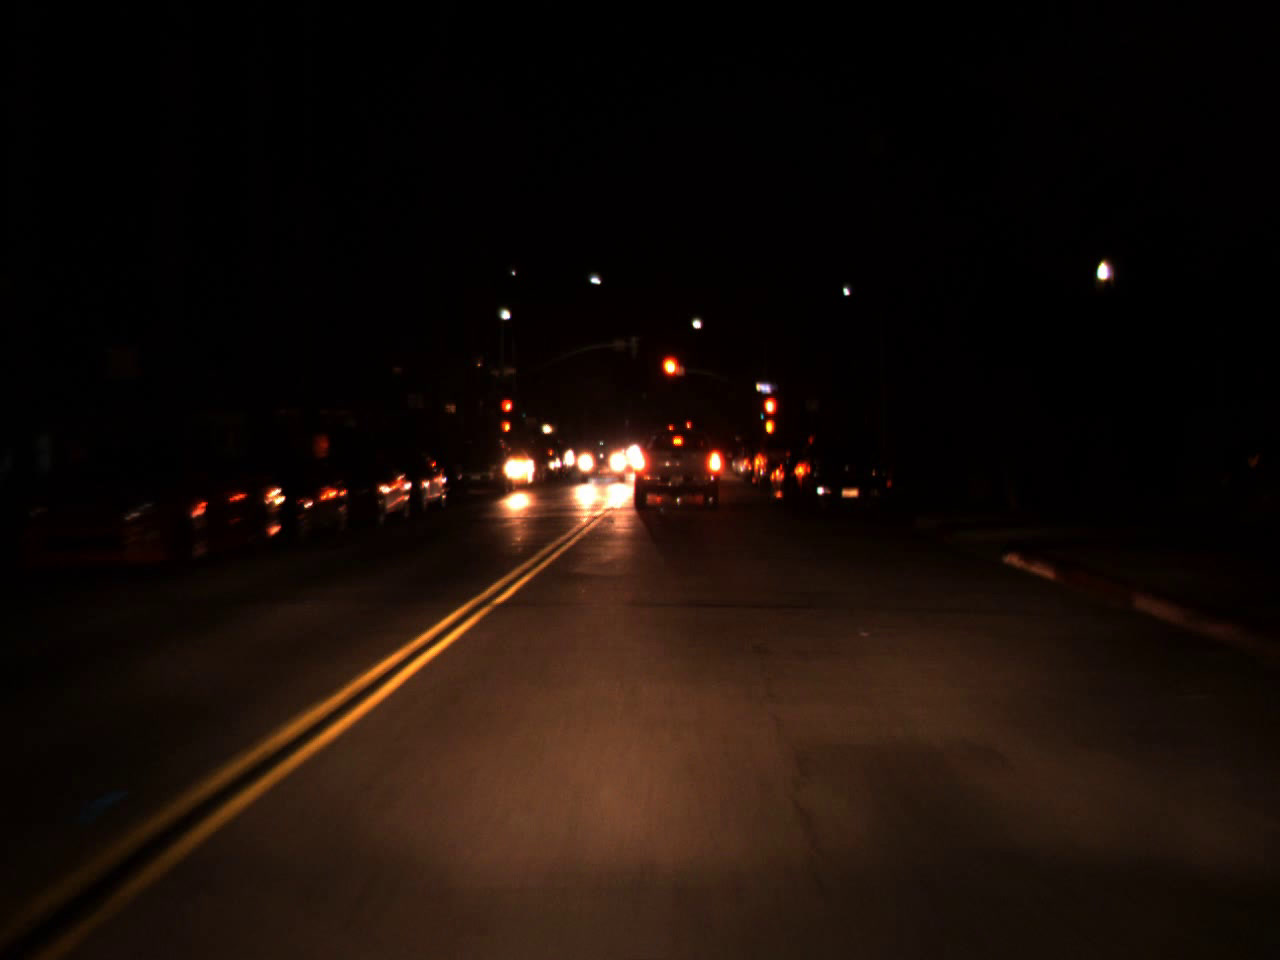stop: (659, 353, 683, 398), (761, 395, 779, 435), (499, 397, 514, 429)
